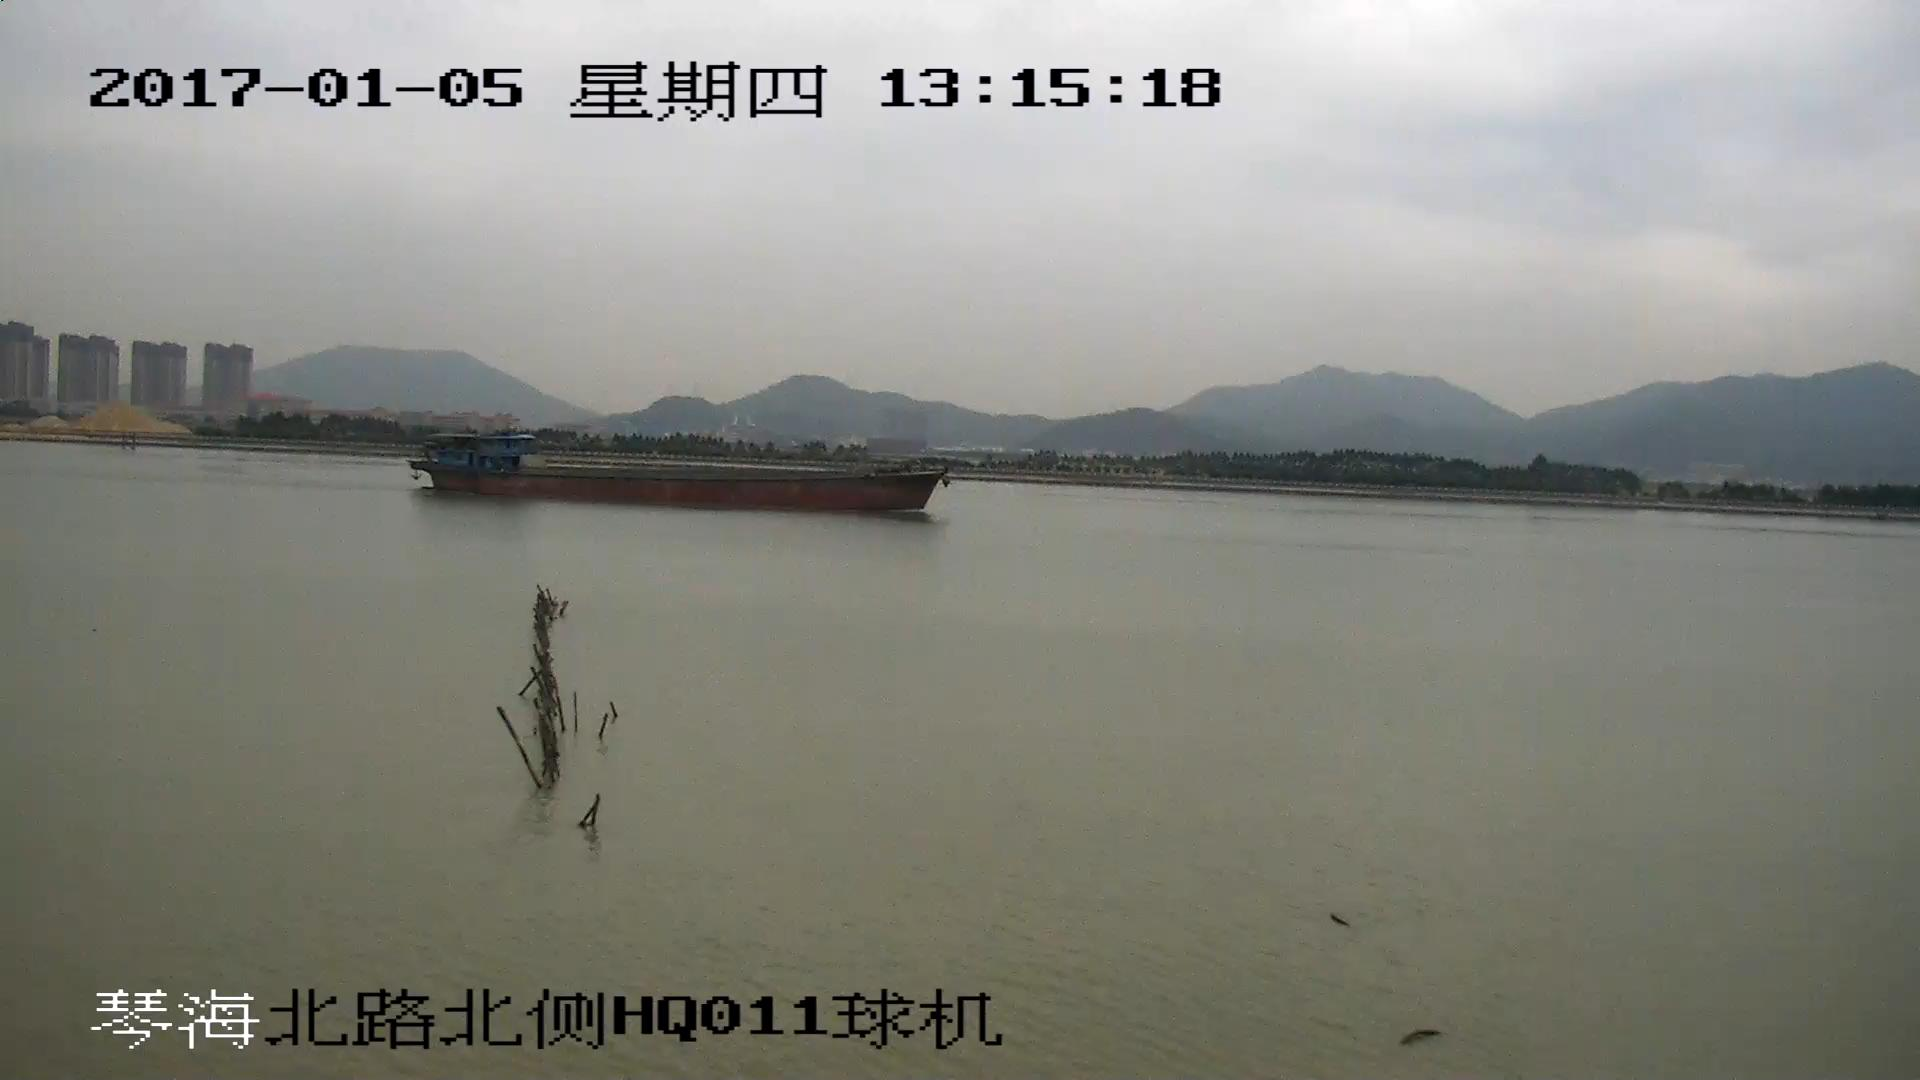bulk cargo carrier: (409, 430, 953, 511)
